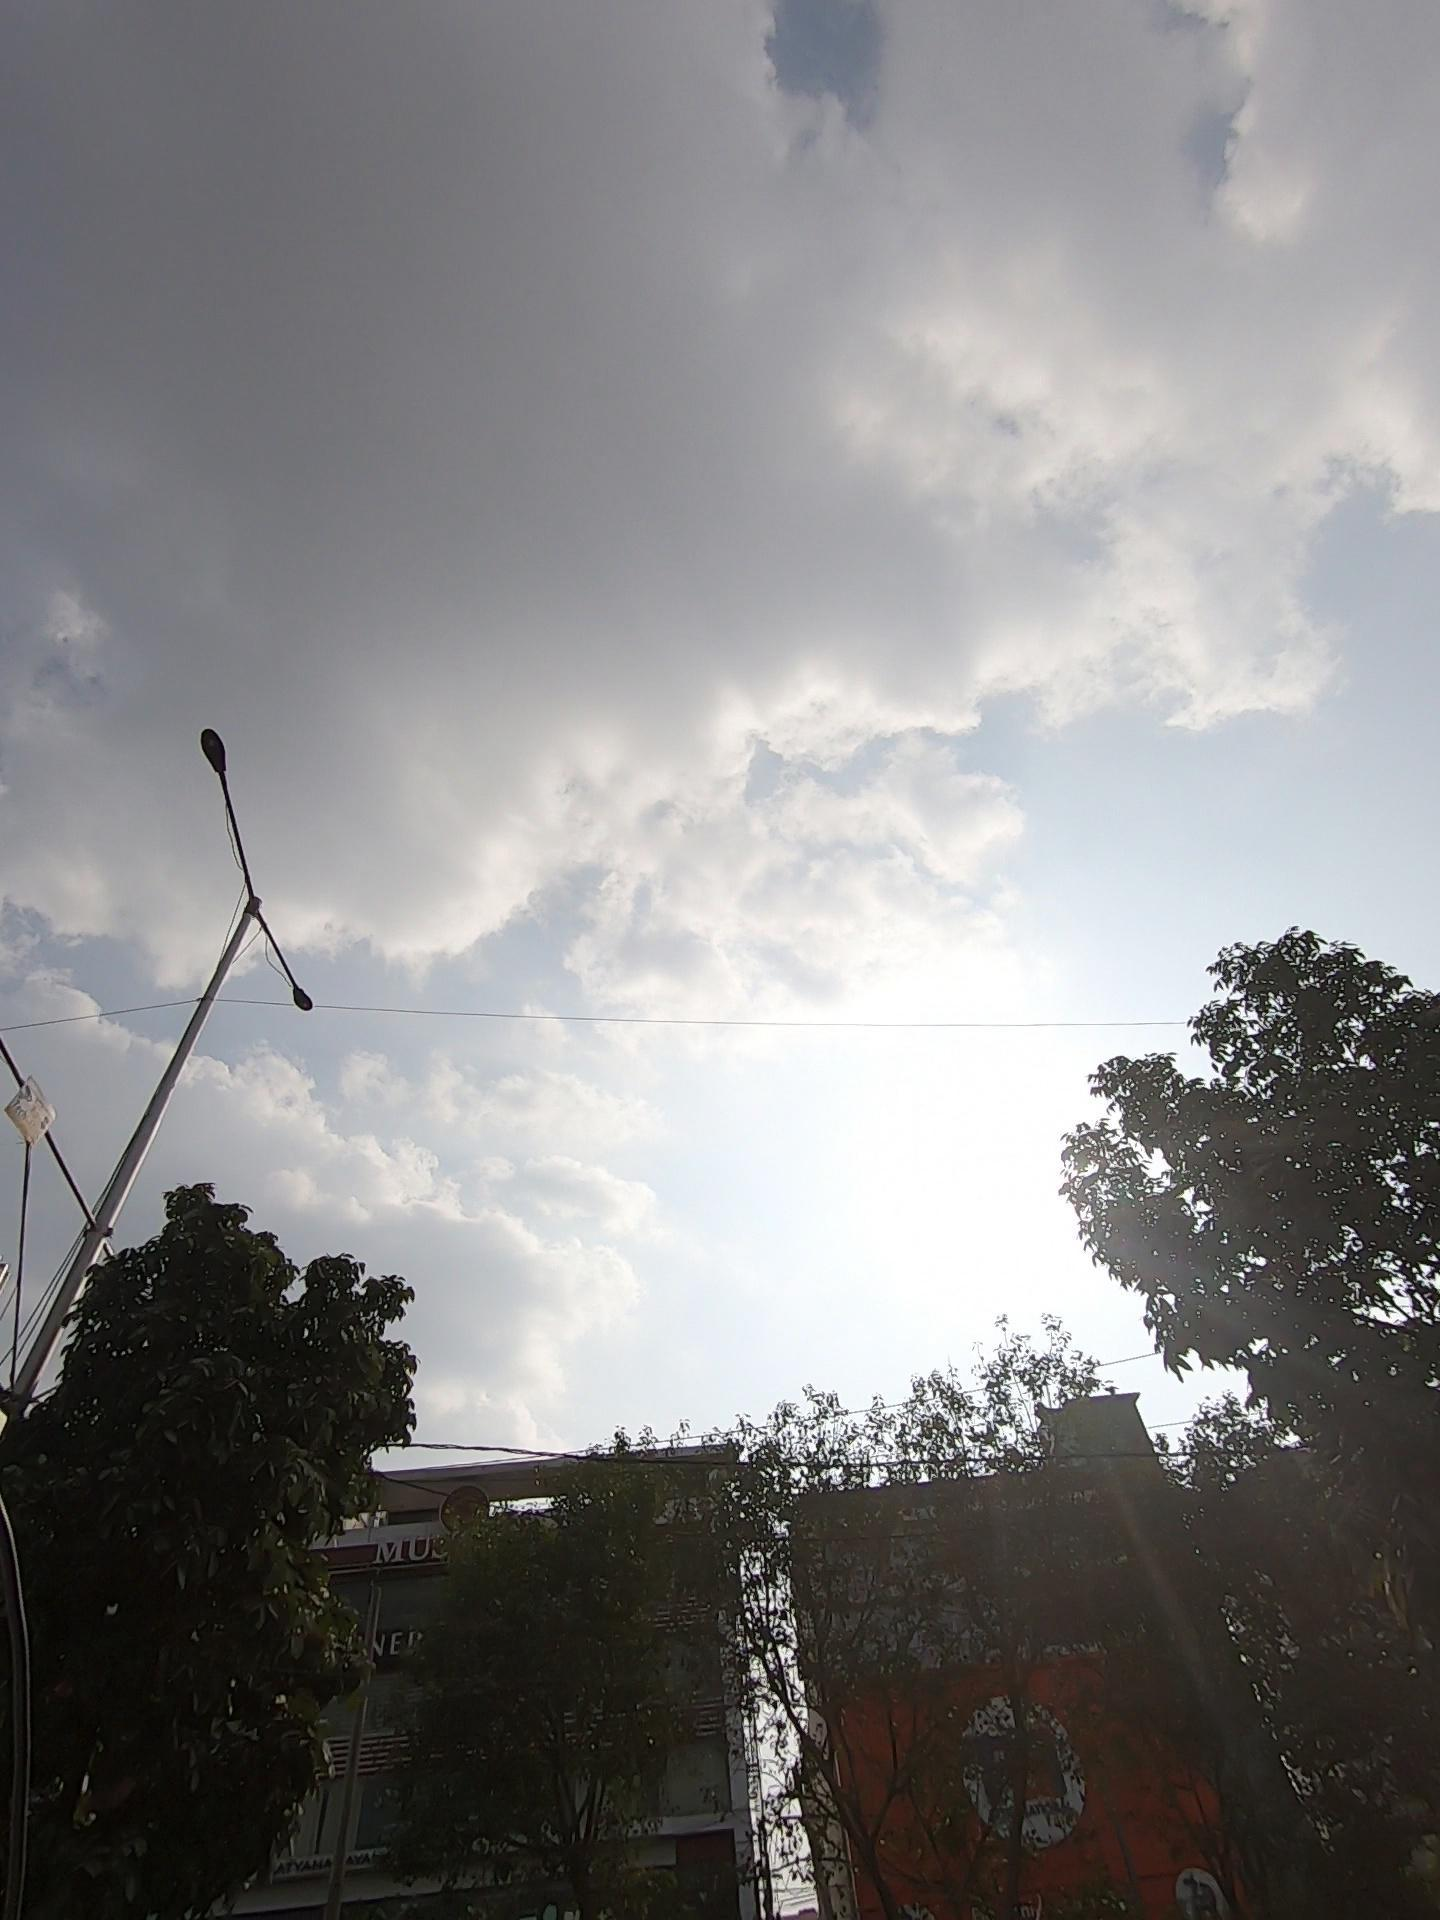off: (195, 652, 448, 1167)
